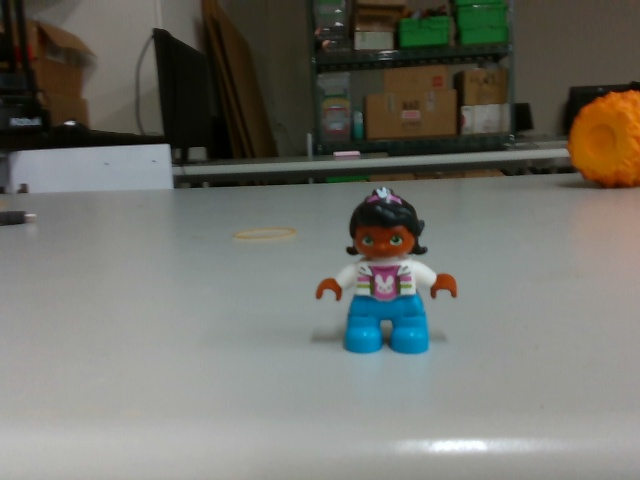people: (313, 186, 462, 356)
